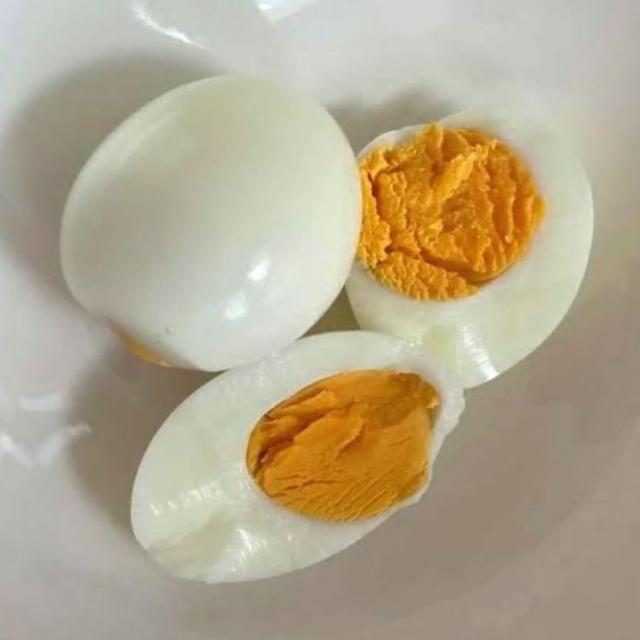egg boiled: (61, 77, 360, 370), (132, 332, 464, 582), (347, 112, 593, 387)
